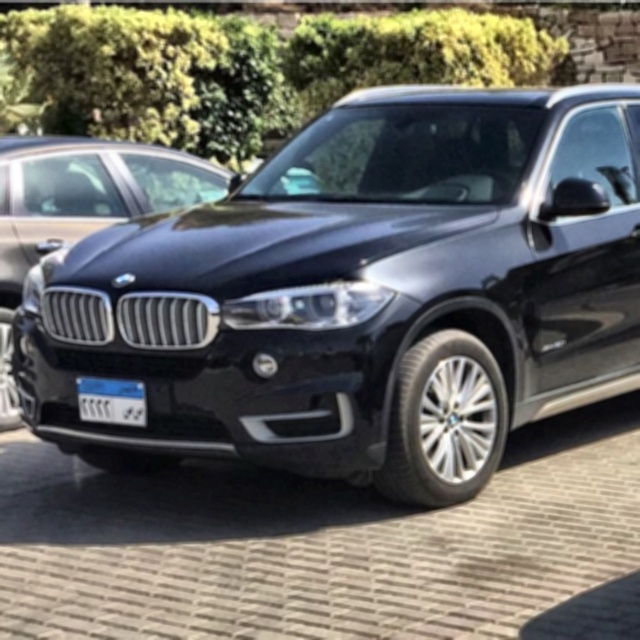License Plate: (74, 372, 150, 432)
